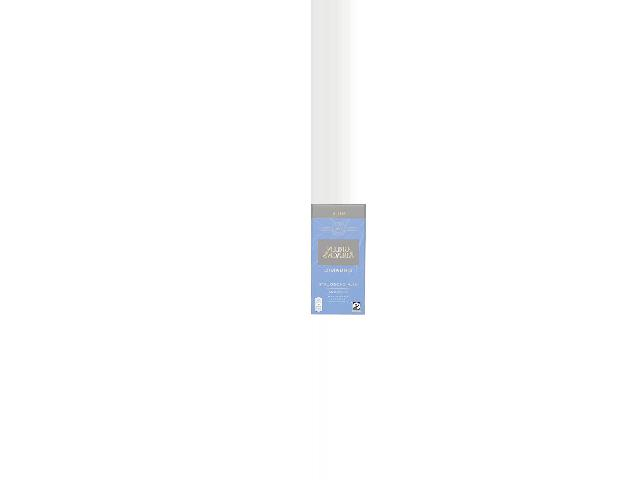chocolate: (309, 204, 366, 313)
